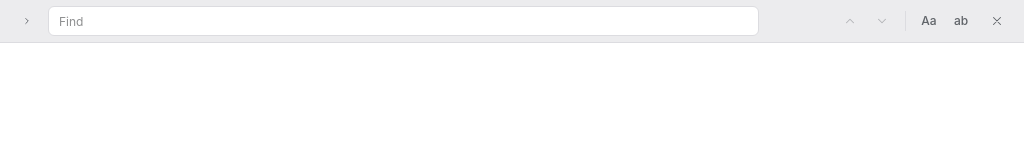
FindBar › hides the replace row until it is expanded
Check: the field labelled "Replace with" is not shown
Click the button named "Toggle replace" at (27, 21), box top-left (12, 6), bottom-right (42, 36)
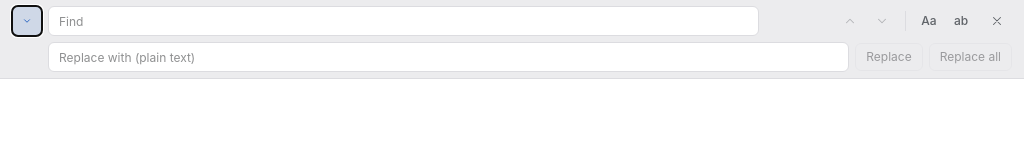
Check: the field labelled "Replace with" is shown, box top-left (48, 42), bottom-right (849, 72)
